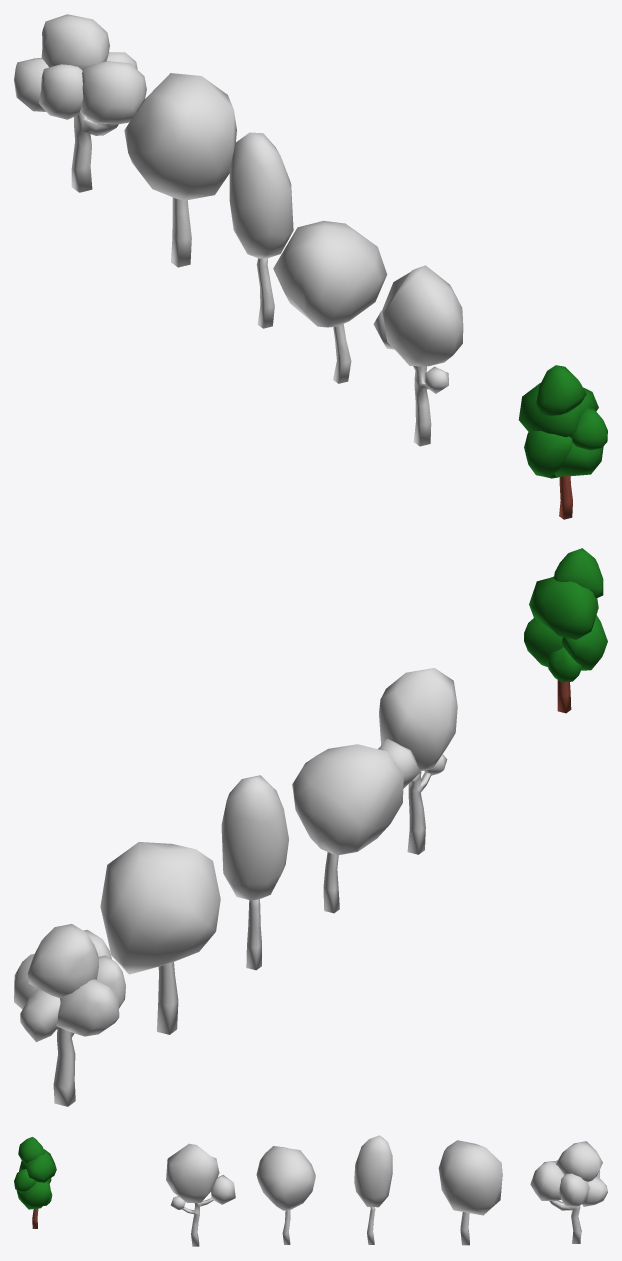
The model's file is Boom_var1.glb.
3 views of the same model, one above another, from view 1: azimuth 30°, elevation 25°; view 2: azimuth 150°, elevation 25°; view 3: azimuth 270°, elevation 25° (orthographic). The views are drawn at different scales.
Parts seen in each view (by area): view 1: Tree 5, Tree 6, Tree 3, Tree 2, Tree 1, Tree 4; view 2: Tree 5, Tree 6, Tree 3, Tree 1, Tree 2, Tree 4; view 3: Tree 5, Tree 6, Tree 2, Tree 3, Tree 4, Tree 1.
Boxes of the visible parts, bbox=[...] form: Tree 5: bbox=[124, 73, 236, 267]; Tree 6: bbox=[14, 14, 146, 192]; Tree 3: bbox=[273, 220, 387, 383]; Tree 2: bbox=[373, 265, 463, 446]; Tree 1: bbox=[518, 365, 607, 519]; Tree 4: bbox=[229, 132, 293, 328]; Tree 5: bbox=[100, 842, 220, 1034]; Tree 6: bbox=[14, 924, 125, 1106]; Tree 3: bbox=[292, 744, 403, 913]; Tree 1: bbox=[524, 548, 607, 713]; Tree 2: bbox=[378, 668, 457, 854]; Tree 4: bbox=[221, 775, 288, 970]; Tree 5: bbox=[438, 1140, 502, 1245]; Tree 6: bbox=[530, 1141, 607, 1243]; Tree 2: bbox=[166, 1143, 235, 1246]; Tree 3: bbox=[256, 1146, 315, 1244]; Tree 4: bbox=[354, 1135, 392, 1244]; Tree 1: bbox=[14, 1137, 56, 1228].
Bounding box in the file's own units: 4.39 × 7.3 × 36.49.
